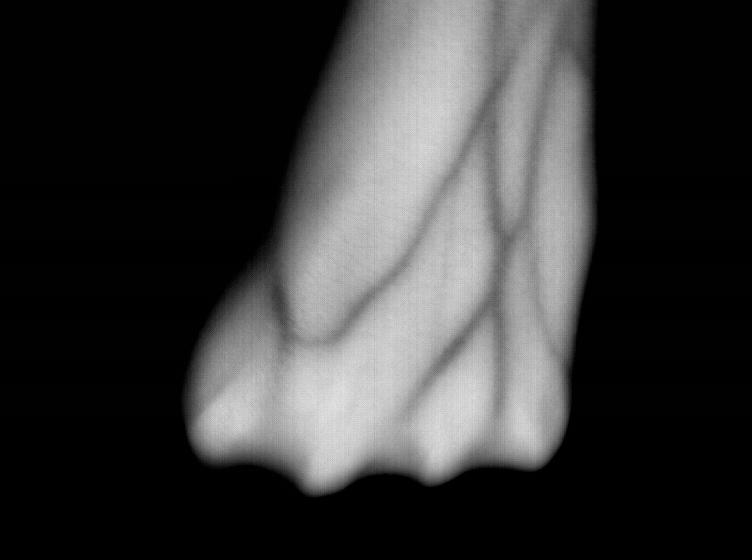Vein: (377, 72, 554, 378)
